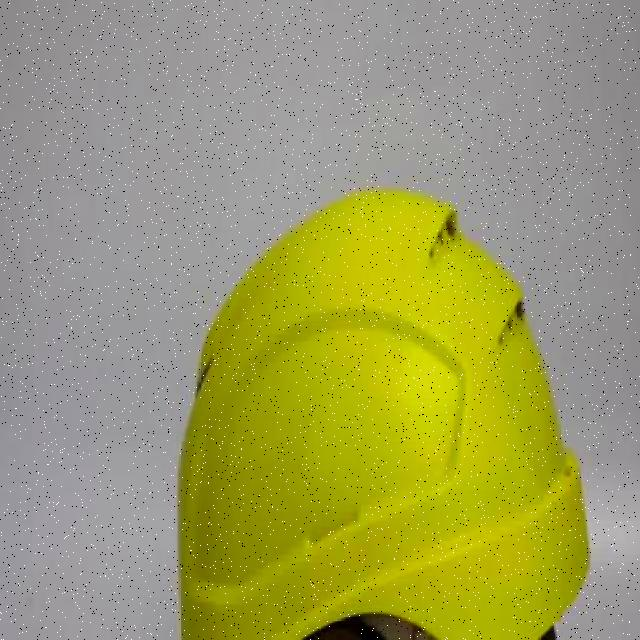Helmet: (174, 186, 594, 640)
